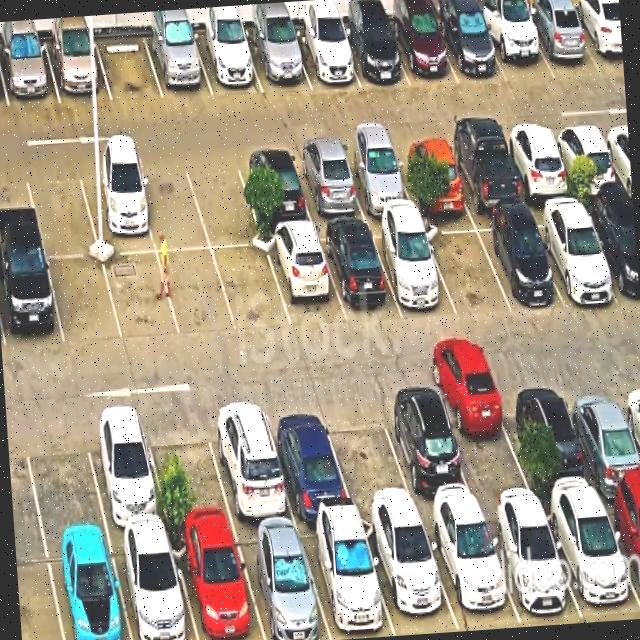empty: (442, 385, 537, 507), (321, 397, 417, 513), (142, 410, 234, 530), (20, 414, 107, 539), (421, 218, 511, 315), (183, 152, 263, 248), (134, 159, 210, 251), (24, 164, 99, 256), (157, 250, 236, 337), (103, 252, 180, 341), (212, 247, 291, 331), (47, 257, 122, 345), (95, 34, 163, 100)
occupied: (378, 390, 480, 513), (541, 497, 640, 622), (481, 505, 582, 623), (421, 509, 520, 629), (297, 518, 394, 640), (360, 516, 459, 635), (232, 525, 331, 640), (204, 400, 295, 525), (263, 401, 354, 520), (511, 381, 600, 502), (81, 411, 169, 532), (170, 528, 264, 640), (109, 531, 197, 640), (562, 378, 640, 496), (528, 204, 620, 304), (45, 535, 130, 640), (473, 214, 562, 310), (263, 228, 346, 329), (317, 224, 402, 321), (369, 222, 456, 315), (77, 162, 156, 254), (444, 133, 525, 211), (235, 149, 313, 228), (0, 254, 64, 350), (581, 202, 640, 305), (290, 145, 366, 222), (477, 10, 555, 84), (339, 142, 416, 216), (392, 138, 470, 210), (521, 9, 602, 78), (501, 127, 575, 202), (549, 123, 623, 196), (387, 13, 458, 87), (434, 12, 507, 83), (338, 20, 410, 87), (192, 31, 263, 96), (144, 32, 213, 98), (600, 492, 640, 605), (44, 37, 111, 103), (290, 26, 360, 89), (245, 29, 310, 92), (0, 40, 60, 107), (570, 5, 624, 74)
